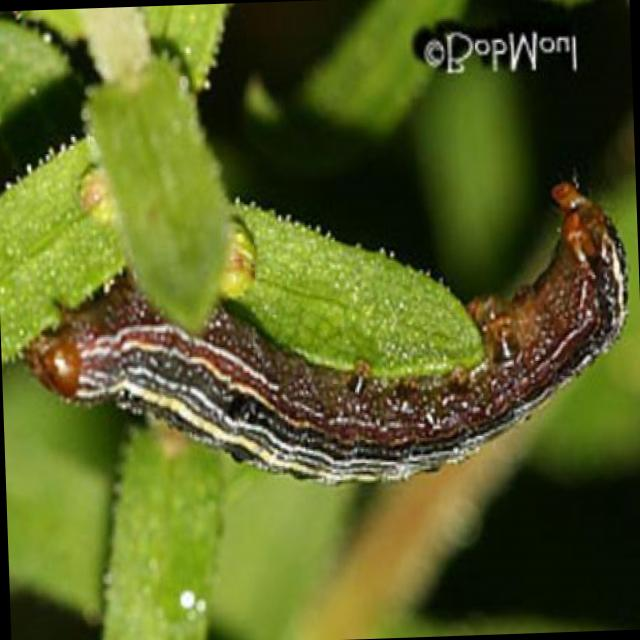armyworm: (13, 156, 640, 511)
